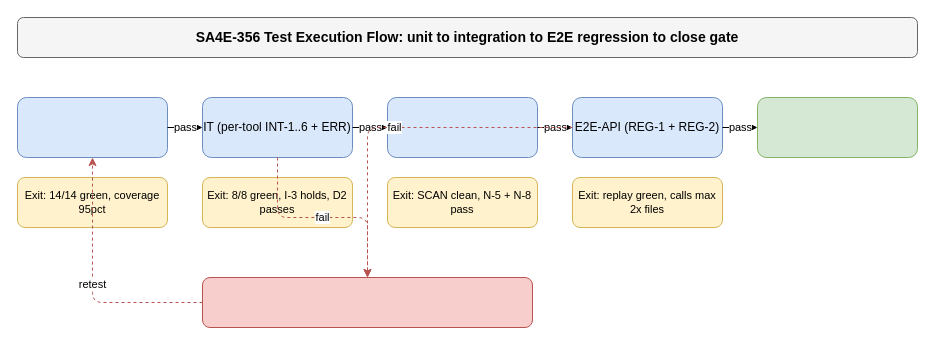
The diagram is 935 pixels wide and 345 high, and some of its shapes have lost their labels. Here are the shapes that lost their labels. From the top down, the box of each, then its label:
(16, 96, 168, 158): PBT + UT (helper, T1-T8, T3b)
(386, 96, 538, 158): SCAN (schemas + N-8)
(756, 96, 918, 158): Close gate (evidence + OI-1 ticket)
(202, 276, 532, 328): DEV fix + retest (REG-1 fail: ticket stays open)
